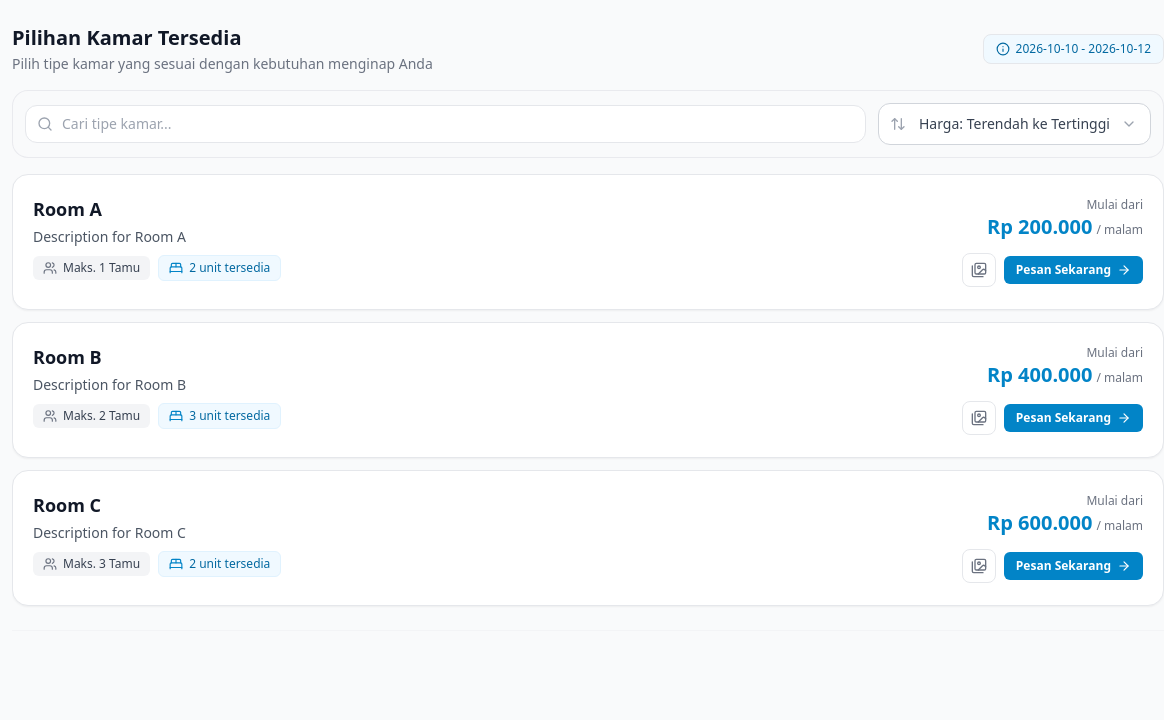
Test case: sorts rooms by price descending
Select "Harga: Tertinggi ke Terendah" in the dropdown named "Urutkan kamar" at (1014, 124), box [878, 103, 1151, 145]
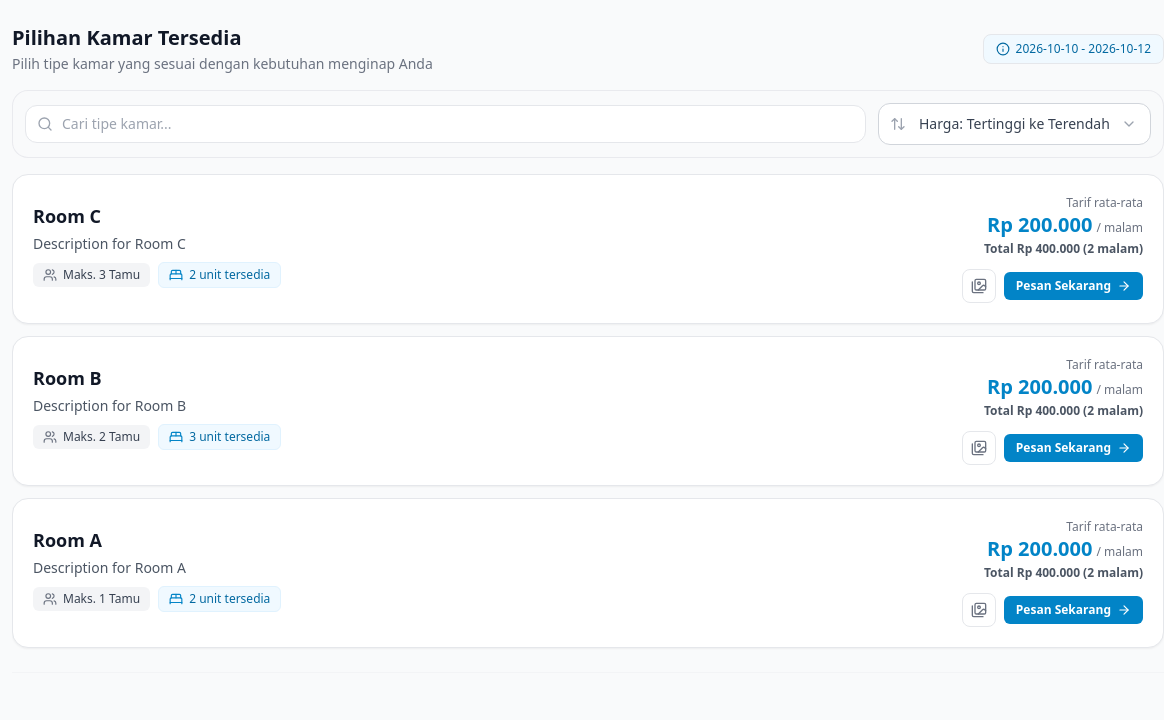
Expected: the heading "Room C" is shown, [33, 204, 101, 228]
Expected: the heading "Room A" is shown, [33, 528, 102, 552]
